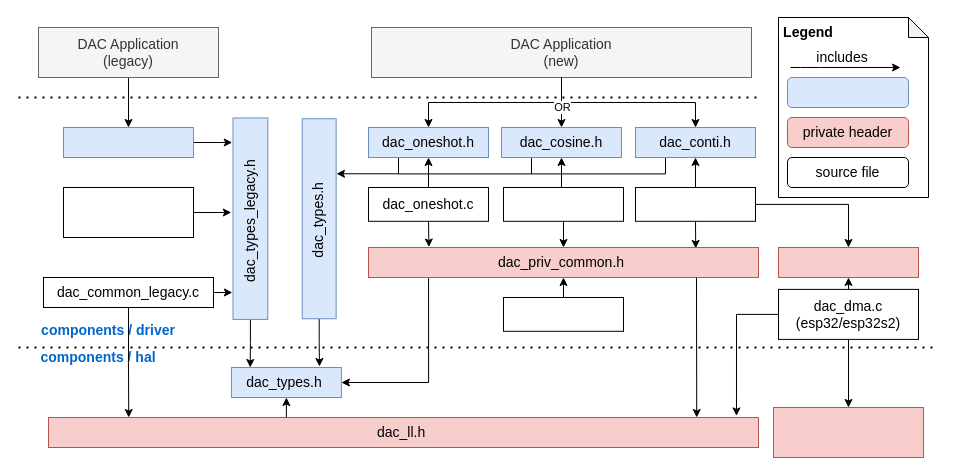
Image size: 957x475. Some labels were removed from this diagram. The centre of each missing label's shape, as x and y in pixels:
"dac.h" belongs at point (128, 142).
"dac_common.c" belongs at point (563, 313).
"dac_conti.c" belongs at point (695, 203).
"dac_cosine.c" belongs at point (563, 203).
"dac_legacy.c (esp32/esp32s2)" belongs at point (128, 212).
"dac_priv_dma.h" belongs at point (848, 262).
"i2s_ll.h/spi_ll.h (esp32/esp32s2)" belongs at point (848, 432).
"public header" belongs at point (847, 92).
